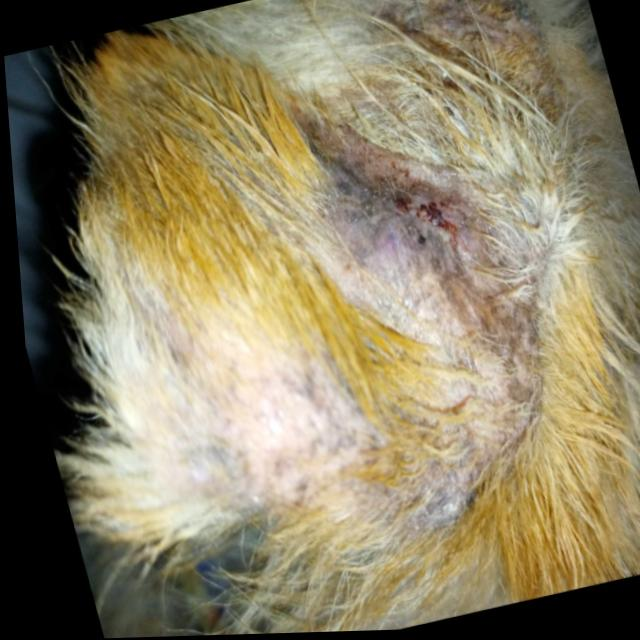demodicosis: (268, 48, 547, 427), (87, 247, 338, 556)
